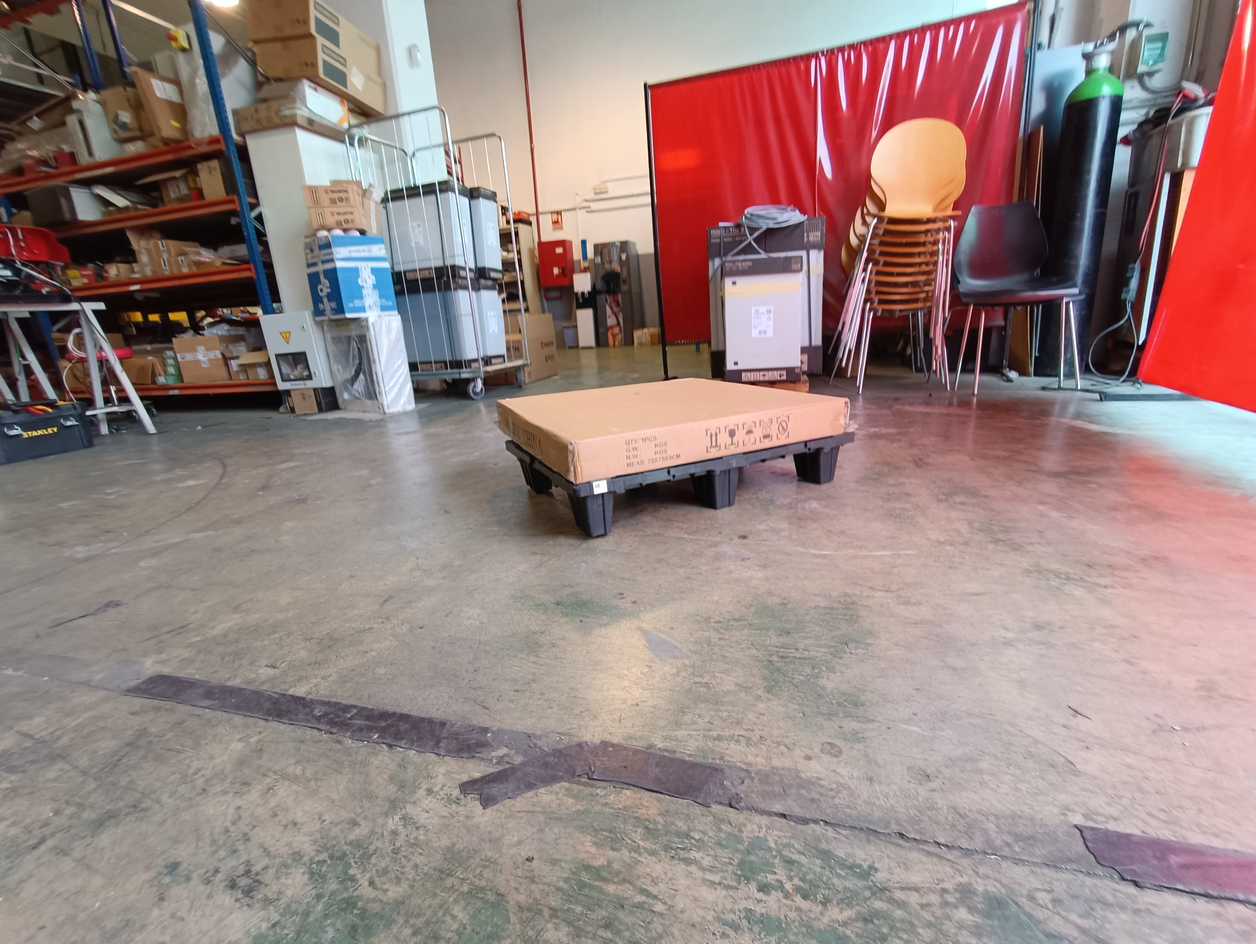block: (571, 487, 617, 536), (797, 445, 843, 483), (518, 460, 554, 494), (714, 470, 742, 509)
front: (572, 425, 862, 553)
hole pallet: (612, 470, 722, 533), (735, 451, 821, 502)
